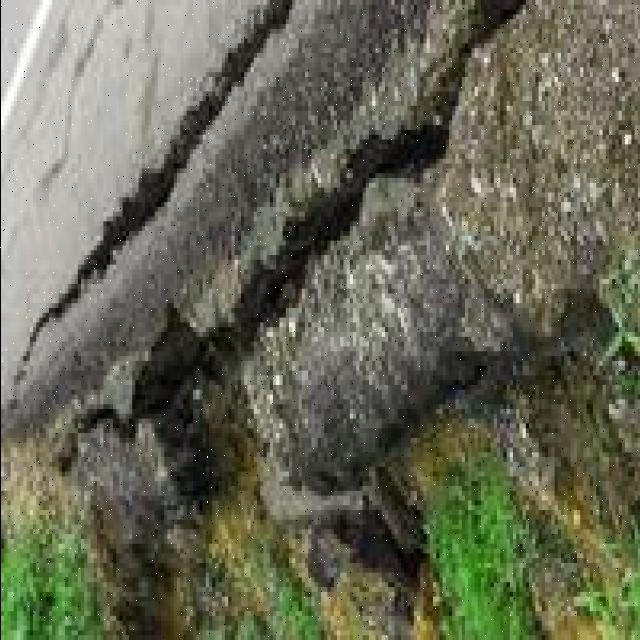road collapse: (6, 13, 640, 640)
